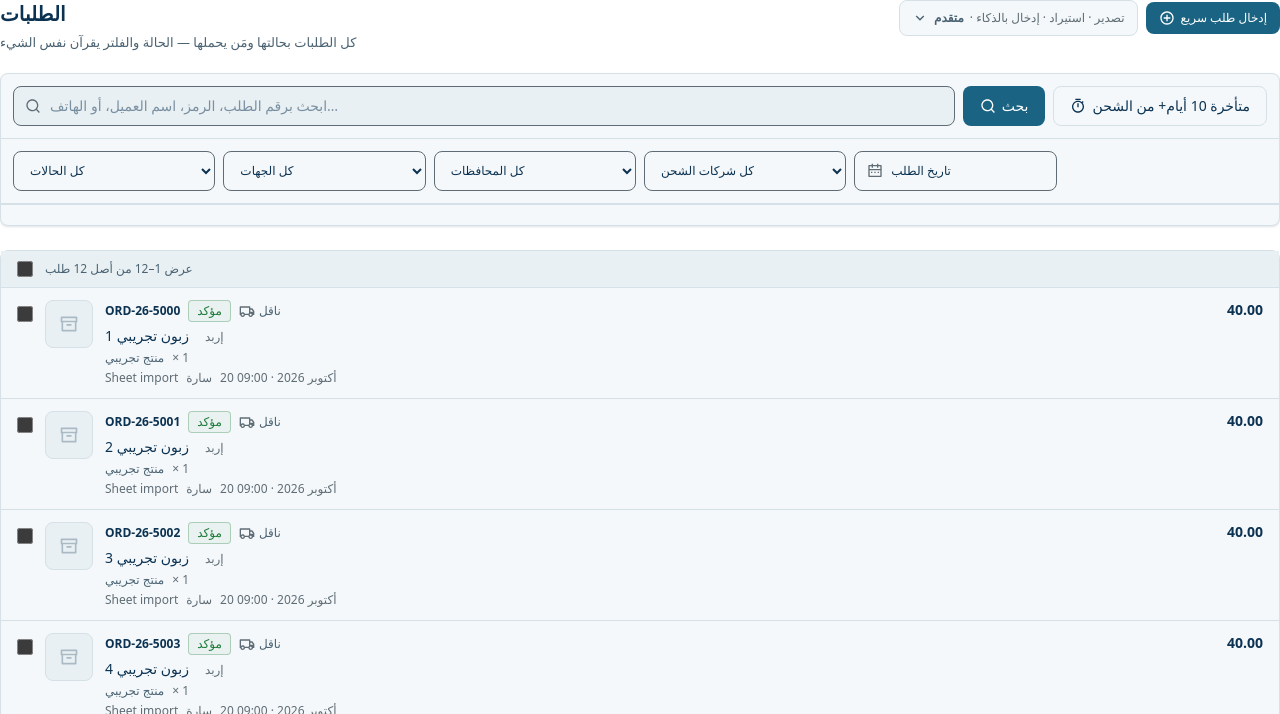
Test: «الطلبات» — the printed batch and its moment › — the browser blocked the window the waybills open in: no moment, and the person is told why
What coordinates should you click on to do the following:
click the checkbox named "تحديد كل الطلبات في هذه الصفحة"
I would click on:
 (25, 269)
Its box is 17,261 -> 33,277.
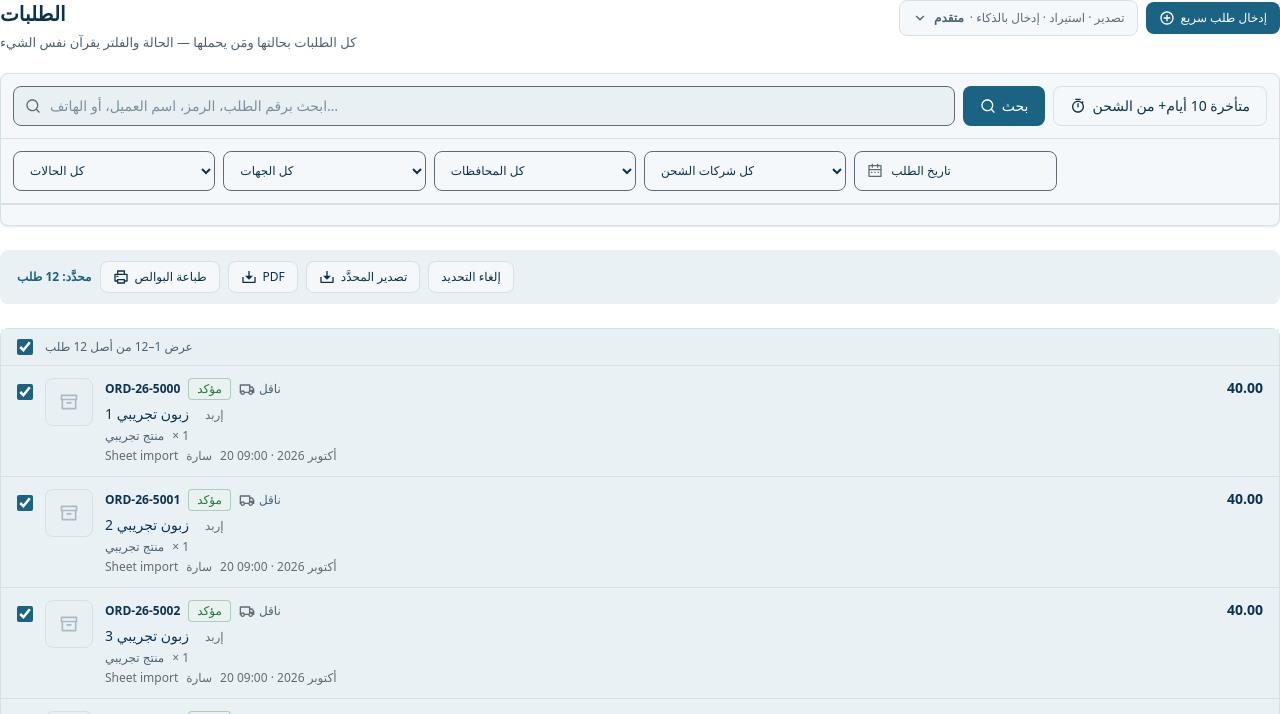
What coordinates should you click on to do the following:
click the button "طباعة البوالص"
I would click on:
 (160, 277)
Its box is 100,261 -> 220,293.
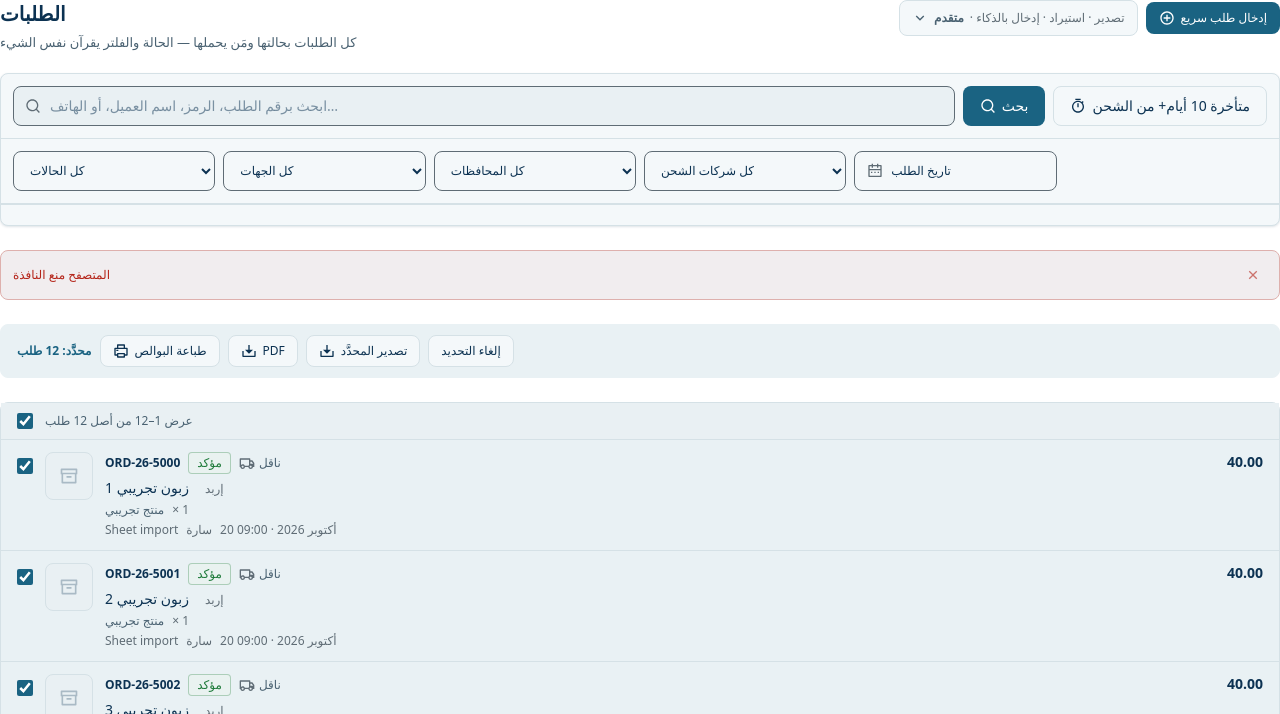
expect the text "المتصفح منع النافذة" is shown: met, box 13,267 -> 110,283
